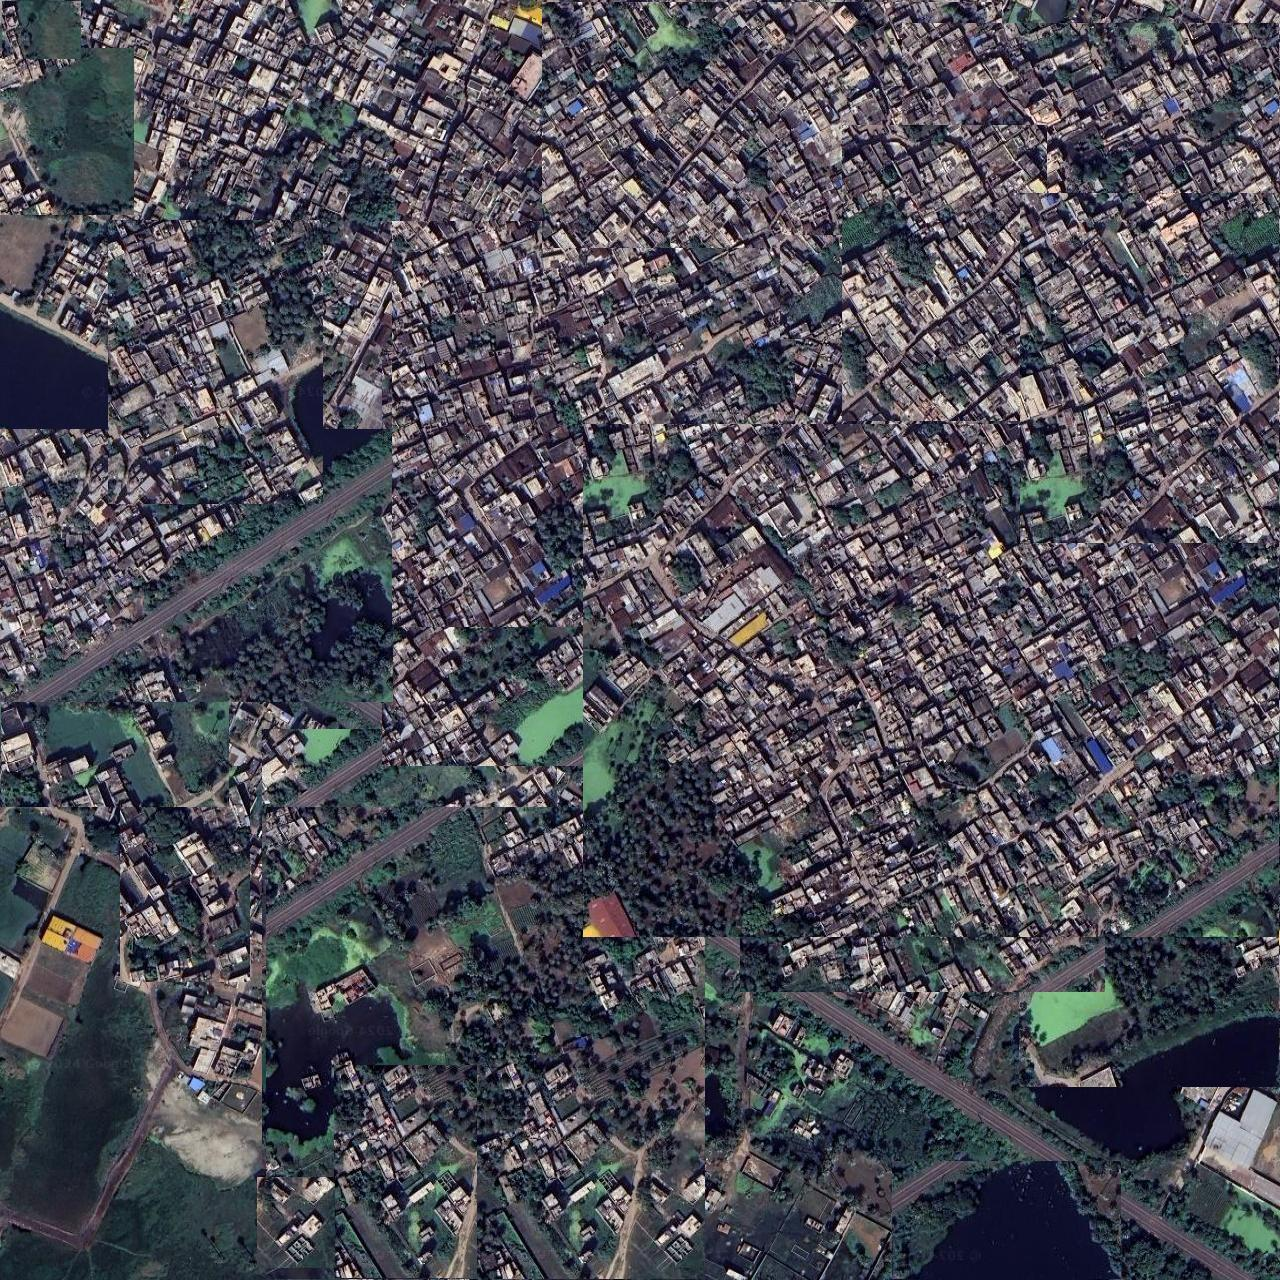greenery: (267, 808, 704, 1279), (682, 949, 1211, 1280), (263, 729, 557, 1169), (382, 353, 651, 765), (1020, 675, 1279, 1087), (1, 430, 393, 702), (393, 665, 781, 926), (79, 96, 436, 365), (2, 486, 229, 806), (120, 765, 250, 982), (954, 144, 1126, 302), (0, 48, 134, 215), (753, 0, 893, 113), (1165, 422, 1276, 543), (828, 904, 961, 1002), (1139, 110, 1261, 206), (779, 236, 873, 339), (818, 445, 881, 554), (1085, 0, 1176, 59), (2, 1, 81, 59), (993, 5, 1057, 68), (1010, 334, 1074, 399), (930, 86, 995, 148), (285, 0, 342, 45), (1070, 124, 1128, 166), (285, 261, 338, 307)
house: (584, 424, 1279, 937), (84, 665, 492, 1116), (393, 222, 795, 627), (682, 258, 1146, 563), (62, 5, 653, 241), (157, 322, 527, 693), (542, 2, 942, 248), (903, 23, 1279, 279), (1021, 193, 1279, 543), (741, 818, 1105, 992), (108, 220, 324, 504), (843, 125, 1047, 421), (334, 1065, 477, 1278), (885, 2, 1002, 86), (258, 1178, 335, 1268)
water: (1008, 1005, 1197, 1183), (556, 992, 726, 1157), (893, 1162, 1121, 1280)
